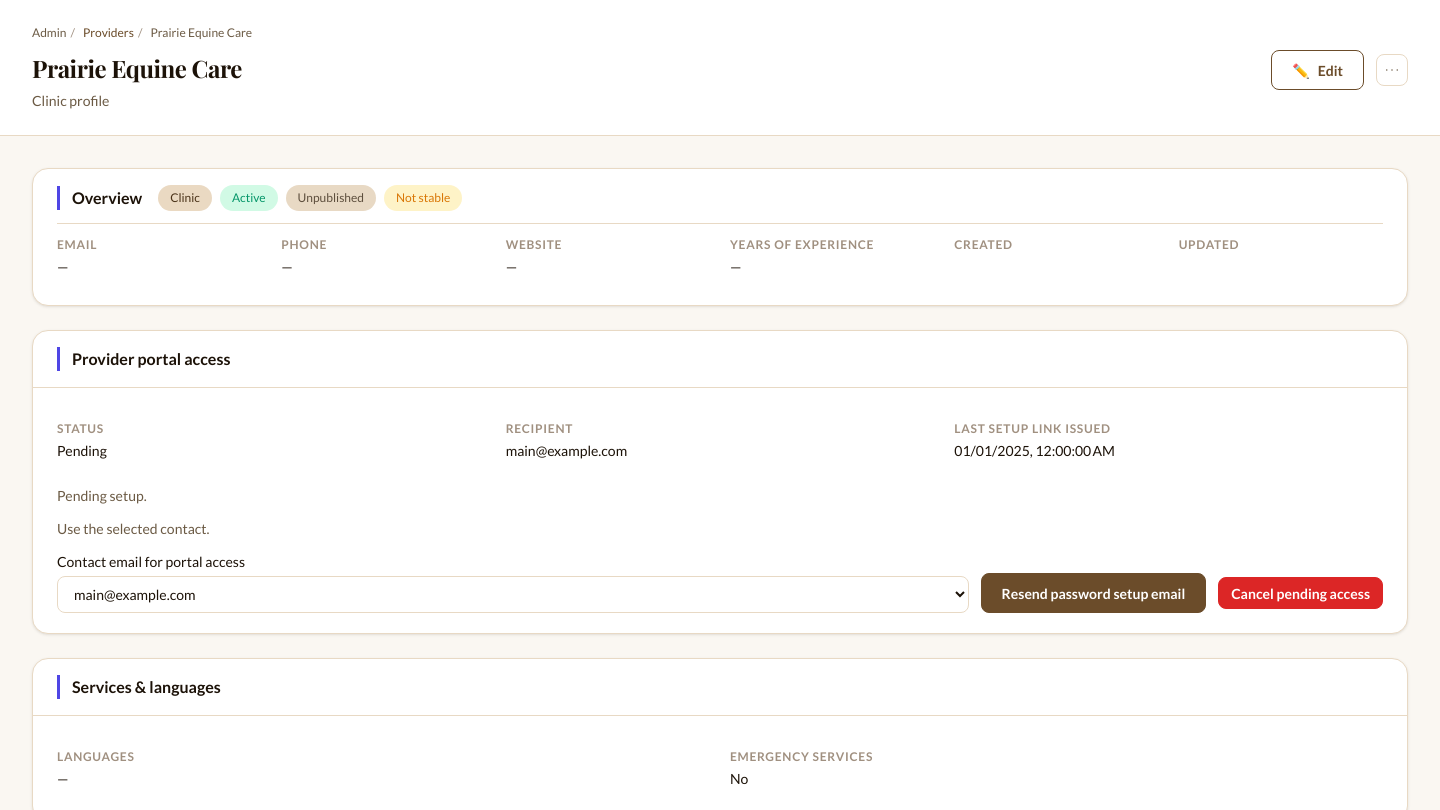
Test case: ProviderDetailPage doctor visits › keeps distinct guidance and a single accessible send failure without a success confirmation
The width and height of the screenshot is (1440, 810).
Click the button "Resend password setup email" at (1093, 593), box x1=981 y1=573 x2=1206 y2=613
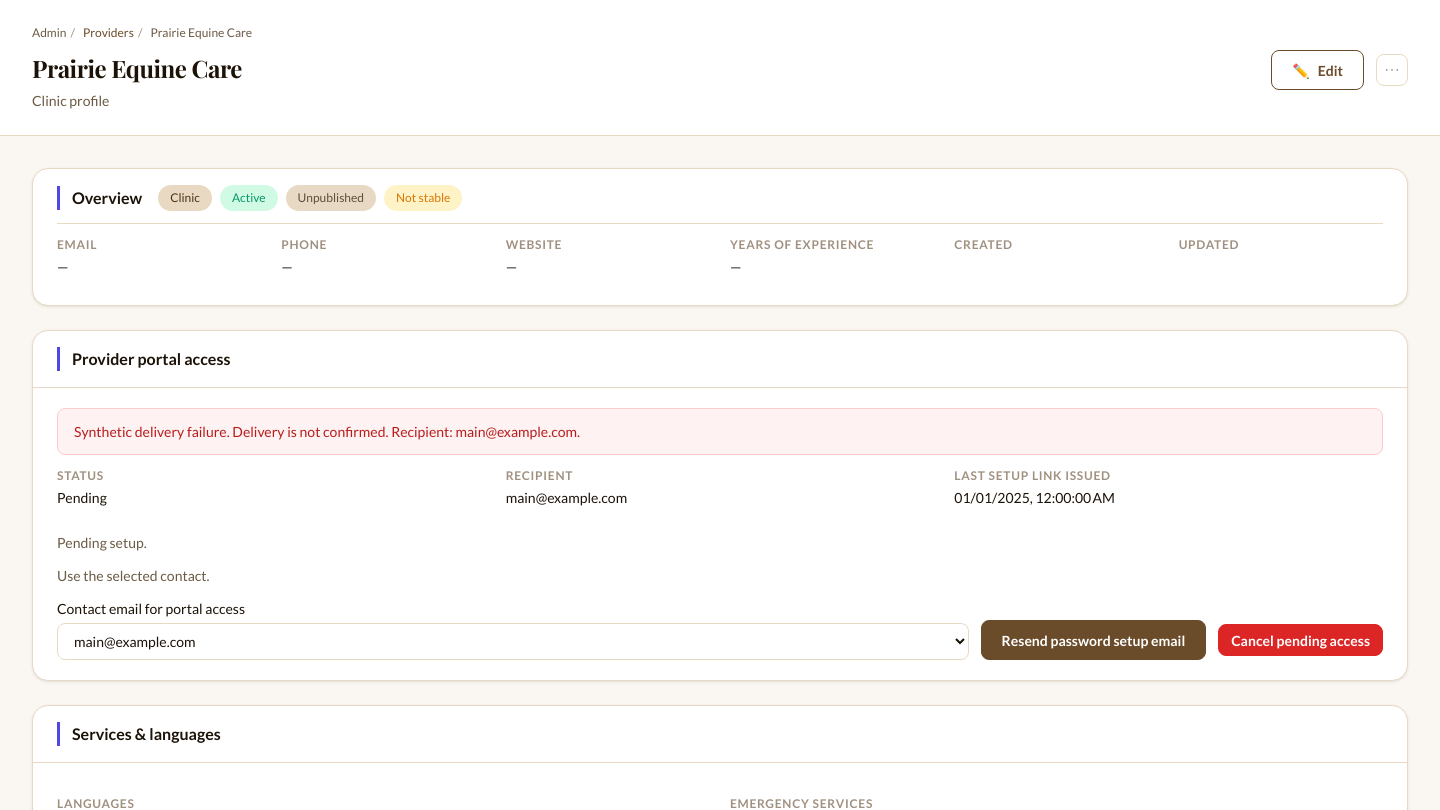
Check: the text "Pending setup." is shown, box x1=57 y1=534 x2=147 y2=551
Check: the message shows "Delivery is not confirmed.", box x1=74 y1=423 x2=580 y2=440
Check: the text "Synthetic delivery failure" is shown once, box x1=57 y1=408 x2=1383 y2=455
